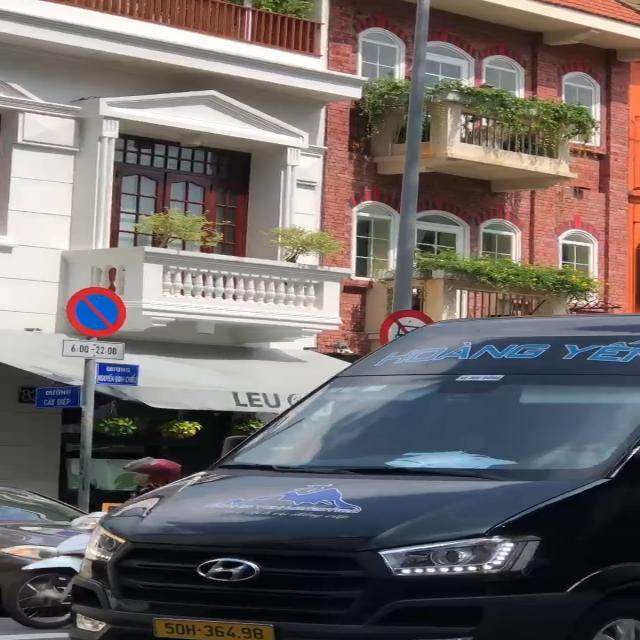Bien bao cam do xe: (64, 285, 132, 339)
